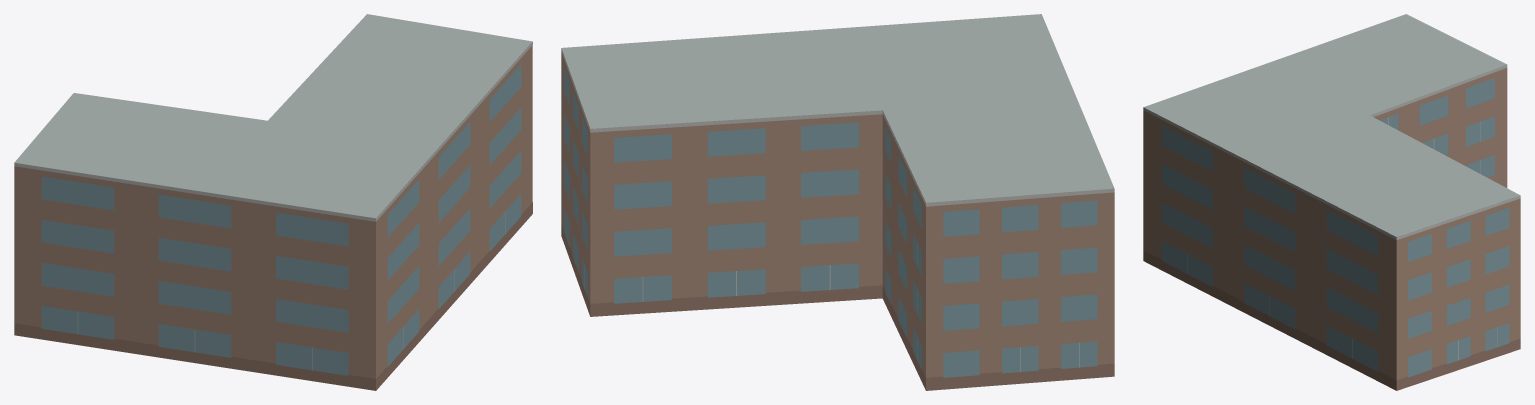
Rendered from survey-upis-32849749.glb.
3 renders of one model, left to right at view 1: azimuth 30°, elevation 25°; view 2: azimuth 150°, elevation 25°; view 3: azimuth 270°, elevation 25°, orthographic. The views are drawn at different scales.
Parts seen in each view (by area): view 1: survey-upis-32849749.tmp; view 2: survey-upis-32849749.tmp; view 3: survey-upis-32849749.tmp.
Part boxes in pixels (<box>): survey-upis-32849749.tmp: <box>14,14,532,390</box>; survey-upis-32849749.tmp: <box>561,14,1114,390</box>; survey-upis-32849749.tmp: <box>1143,14,1520,390</box>.
Bounding box in the file's own units: 37.98 × 12.2 × 27.13.
